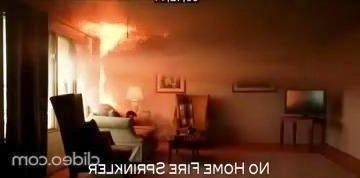fire: (63, 0, 140, 113)
